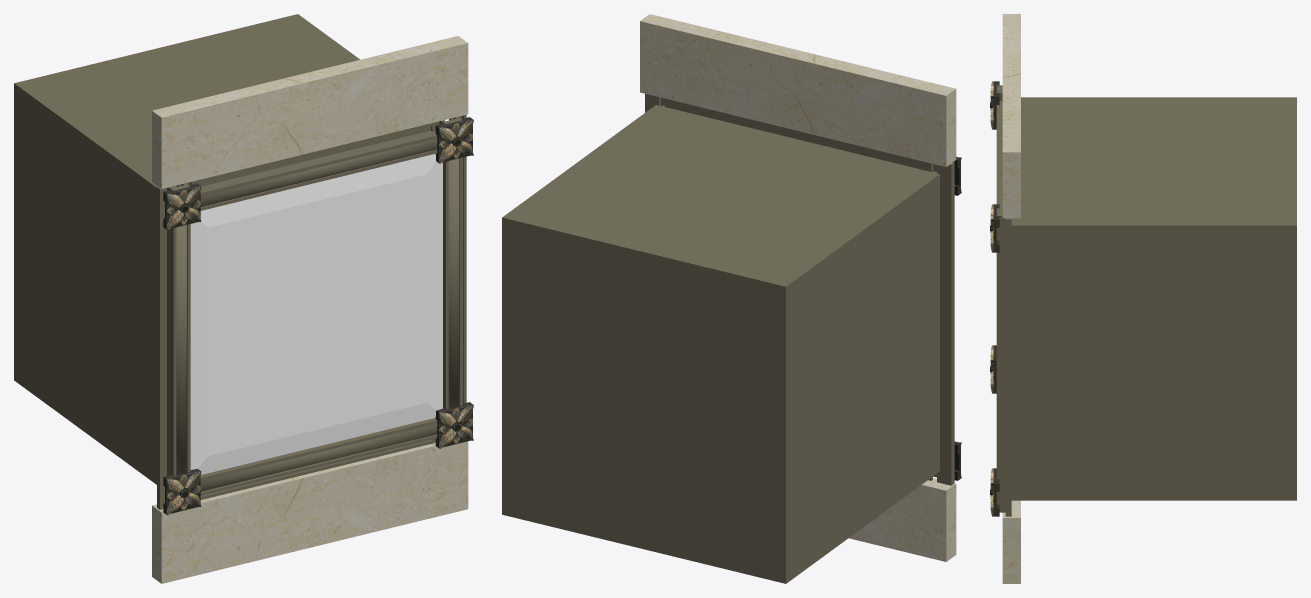
Rendered from scaled.glb.
3 renders of one model, left to right at view 1: azimuth 30°, elevation 25°; view 2: azimuth 150°, elevation 25°; view 3: azimuth 270°, elevation 25°, orthographic. The views are drawn at different scales.
Parts seen in each view (by area): view 1: G-__556032.001, G-__556032.064, G-__556032.003, G-__556032.002, G-__556032.035, G-__556032.048, G-__556032.049, G-__556032.004; view 2: G-__556032.064, G-__556032.036, G-__556032.003, G-__556032.002, G-__556032.035, G-__556032.048; view 3: G-__556032.064, G-__556032.049, G-__556032.003, G-__556032.002, G-__556032.048.
Boxes of the visible parts, x1,y1,x2,y2 form: G-__556032.001: (190, 153, 442, 474); G-__556032.064: (14, 14, 359, 484); G-__556032.003: (152, 36, 468, 188); G-__556032.002: (152, 441, 468, 583); G-__556032.035: (157, 181, 194, 509); G-__556032.048: (194, 123, 437, 210); G-__556032.049: (431, 114, 466, 443); G-__556032.004: (200, 418, 437, 499); G-__556032.064: (502, 105, 939, 583); G-__556032.036: (505, 221, 783, 579); G-__556032.003: (640, 14, 956, 166); G-__556032.002: (849, 478, 956, 561); G-__556032.035: (917, 160, 954, 485); G-__556032.048: (679, 102, 917, 168); G-__556032.064: (1011, 97, 1296, 500); G-__556032.049: (996, 208, 1011, 516); G-__556032.003: (1002, 14, 1020, 218); G-__556032.002: (1002, 500, 1020, 583); G-__556032.048: (996, 101, 1002, 208).
Size of the model in its own units: 1.37 by 1.99 by 1.28.
8 materials, 3 textured.
